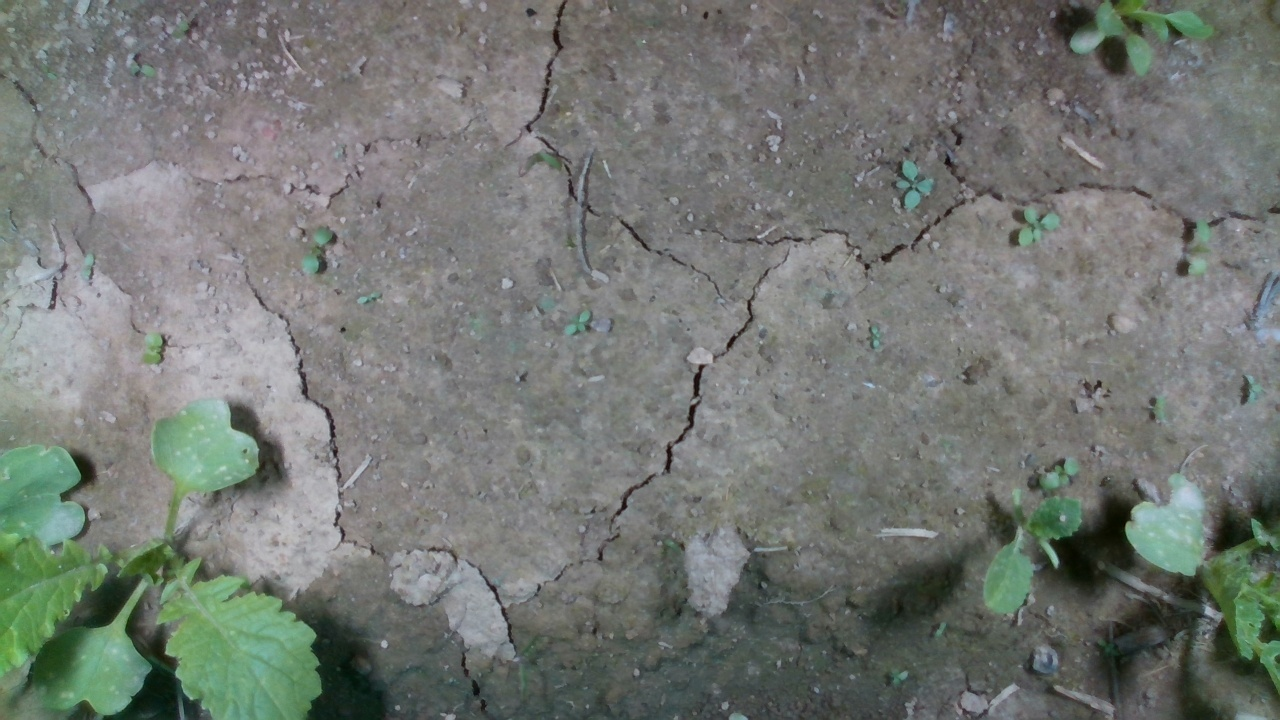weed: (891, 156, 933, 214), (1017, 202, 1059, 247), (300, 226, 334, 277), (1035, 454, 1080, 491), (1185, 216, 1211, 275), (560, 308, 593, 338), (141, 330, 166, 367)
